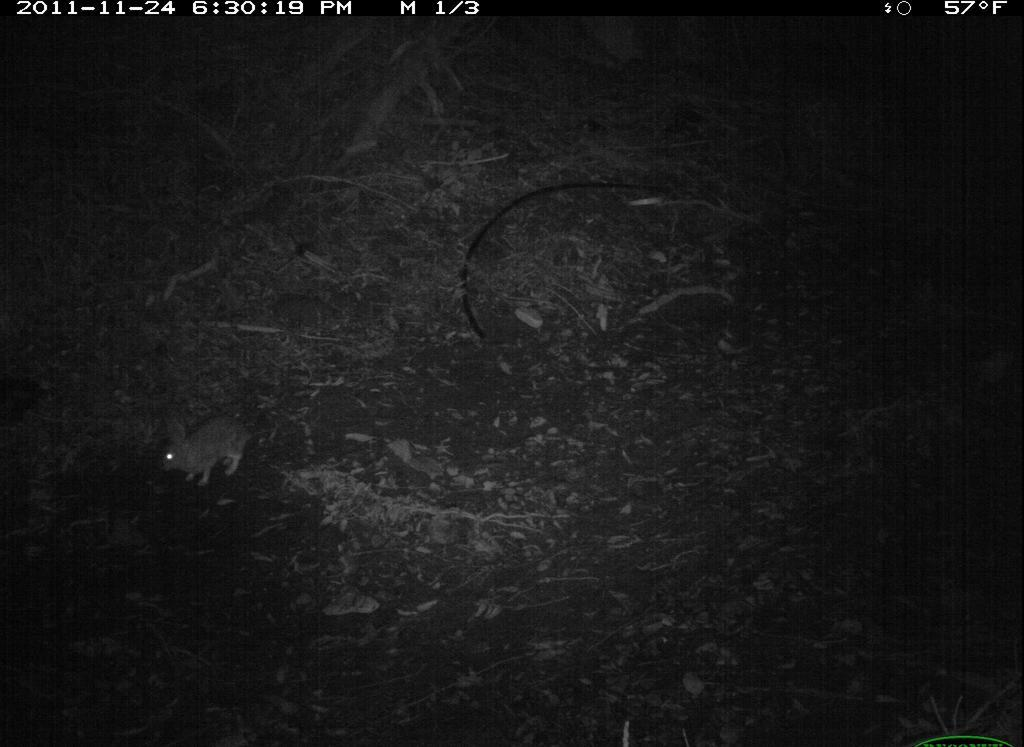rabbit: (145, 404, 267, 496)
